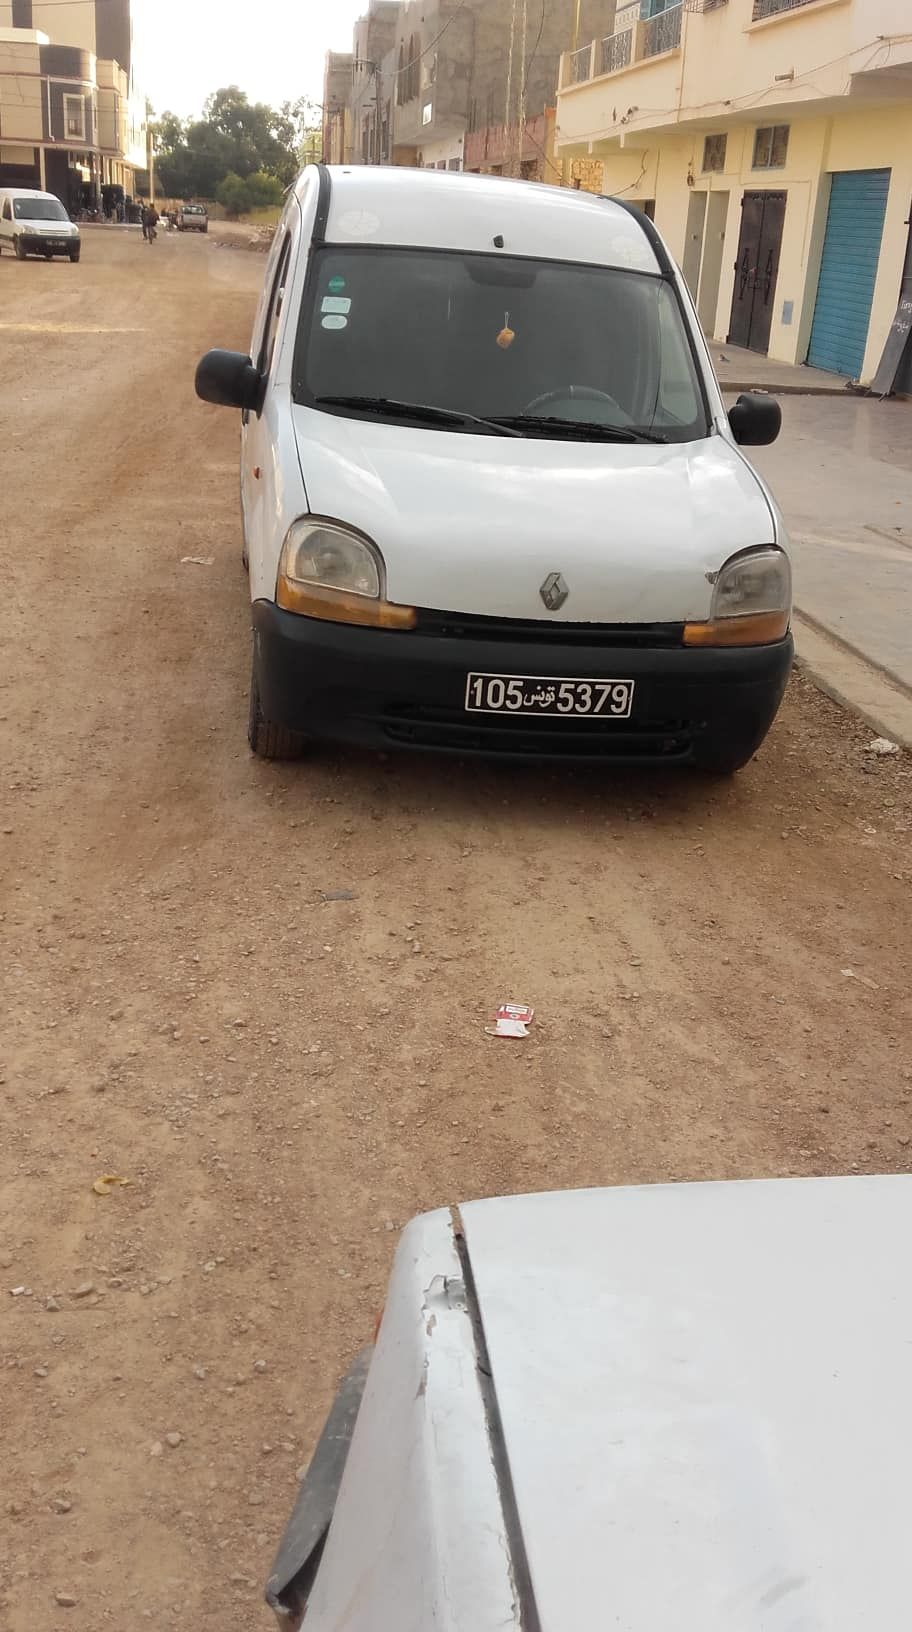LP: (465, 670, 637, 718)
